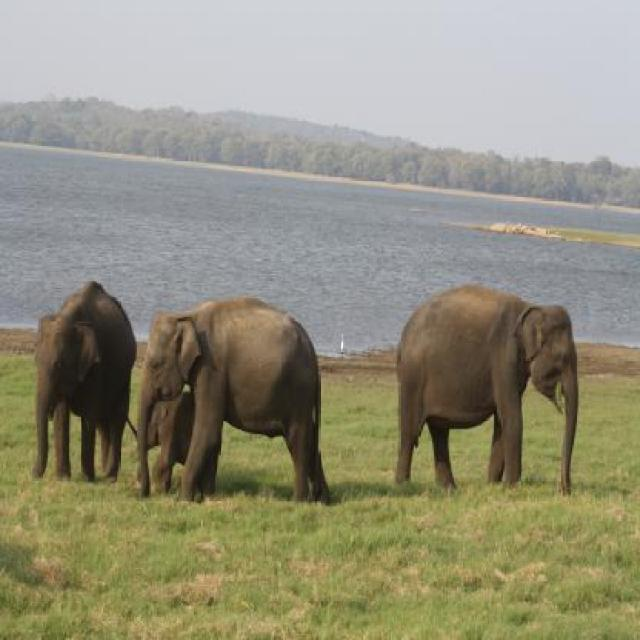Elephant: (395, 282, 579, 496), (136, 312, 324, 506), (27, 282, 139, 488), (132, 399, 220, 503)
